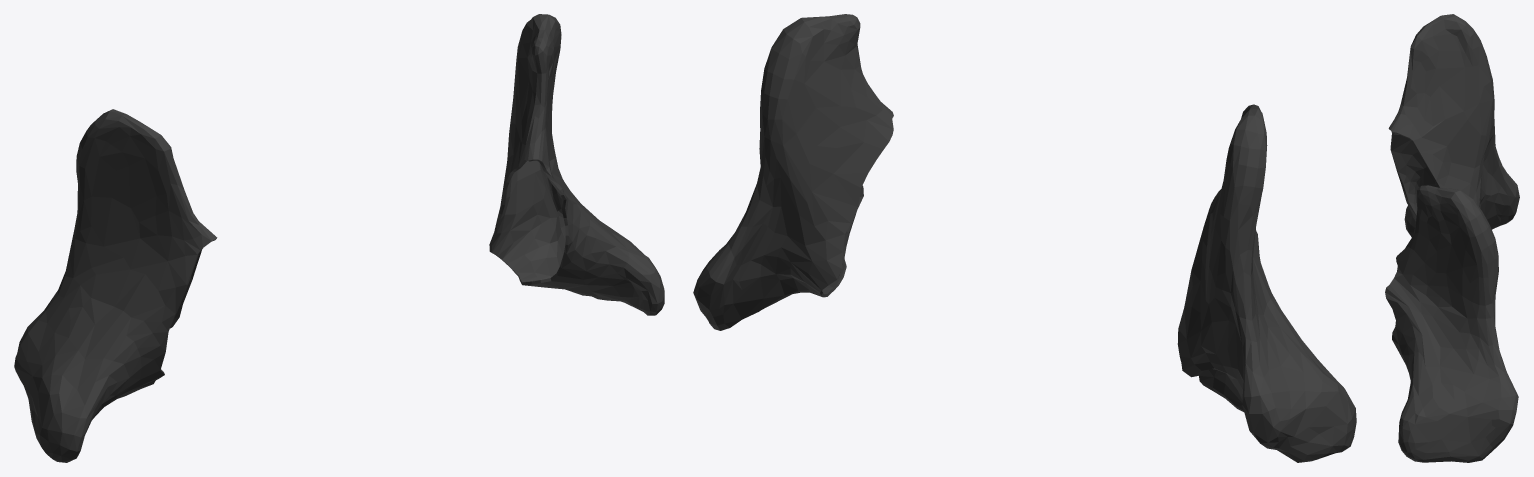
Rendered from c5_transverse_processes.glb.
The picture shows the model from 3 angles, left to right: view 1: azimuth 30°, elevation 25°; view 2: azimuth 150°, elevation 25°; view 3: azimuth 270°, elevation 25°; orthographic projection. The views are drawn at different scales.
Visible parts, largest first — view 1: c5_transverse_processes; view 2: c5_transverse_processes; view 3: c5_transverse_processes.
Part boxes in pixels (x1,y1,x2,y2): c5_transverse_processes: [14, 14, 664, 462]; c5_transverse_processes: [693, 14, 1356, 462]; c5_transverse_processes: [1385, 14, 1519, 462].
Bounding box in the file's own units: 52.06 × 26.3 × 12.68.
1 material, 1 textured.
